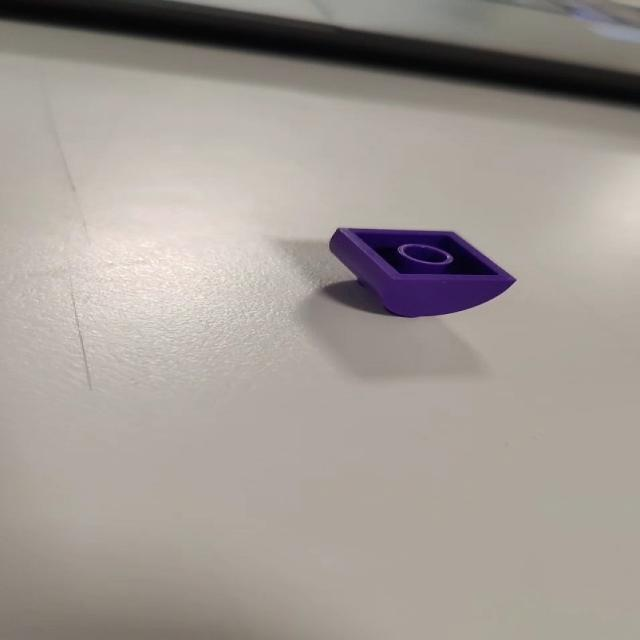H2x2x1: (322, 224, 522, 322)
